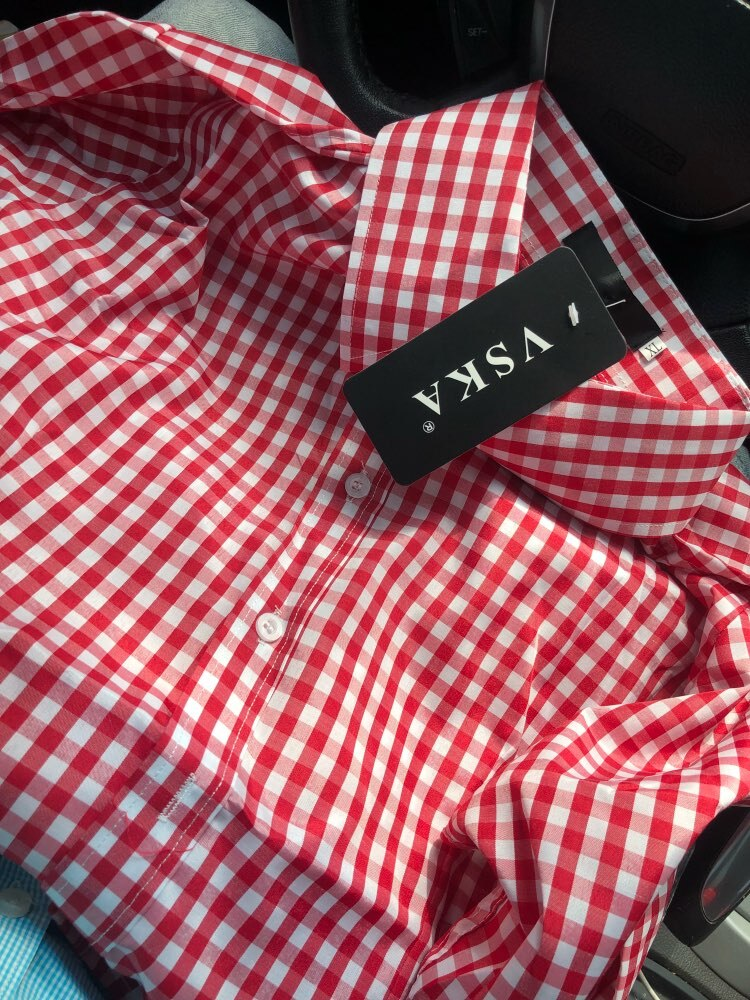shirts: (8, 27, 748, 1000)
